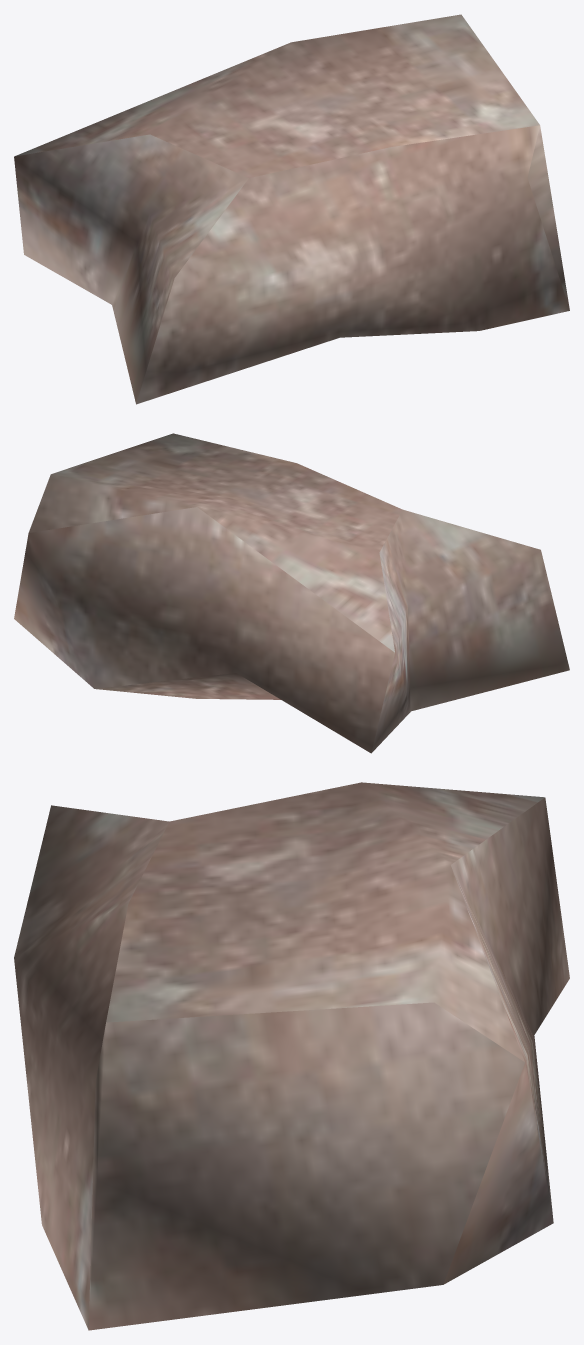
The model's file is Q_Limestone_2.fbx.
3 renders of one model, top to bottom at view 1: azimuth 30°, elevation 25°; view 2: azimuth 150°, elevation 25°; view 3: azimuth 270°, elevation 25°, orthographic. The views are drawn at different scales.
Visible parts, largest first — view 1: Aset_rock_rough_S_udqhfcyva_00_LOD8; view 2: Aset_rock_rough_S_udqhfcyva_00_LOD8; view 3: Aset_rock_rough_S_udqhfcyva_00_LOD8.
Boxes of the visible parts, box(x1,y1,x2,y2) form: Aset_rock_rough_S_udqhfcyva_00_LOD8: box(14, 14, 569, 404); Aset_rock_rough_S_udqhfcyva_00_LOD8: box(14, 433, 569, 753); Aset_rock_rough_S_udqhfcyva_00_LOD8: box(14, 782, 569, 1330).
Bounding box in the file's own units: 5.72 × 2.52 × 3.69.
1 material, 1 textured.
